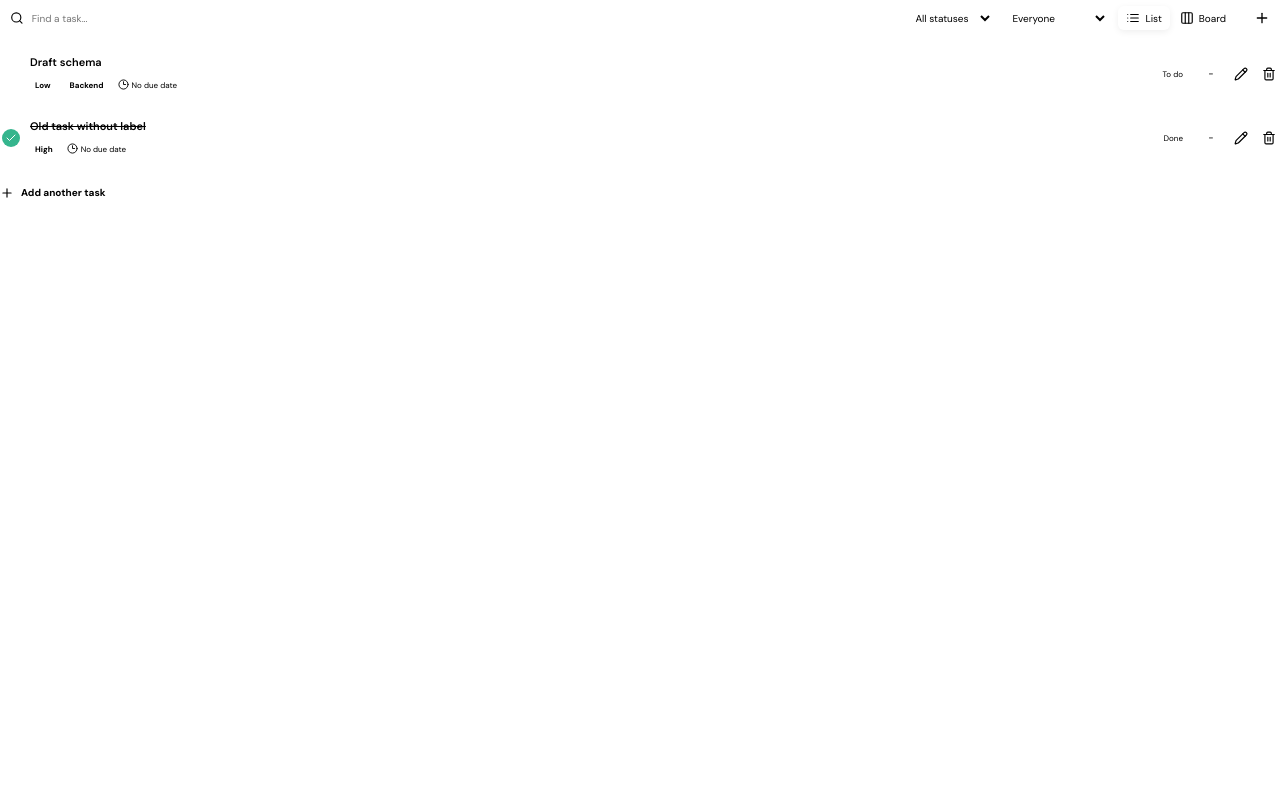
Test: Task label (US-21) › only sends the label (plus version) when just the label was edited
The width and height of the screenshot is (1280, 800).
Check: the text "Draft schema" is shown, box [30, 55, 102, 69]
Step 1. Click the button named "Edit Draft schema" → (1241,74), box [1232, 65, 1250, 83]
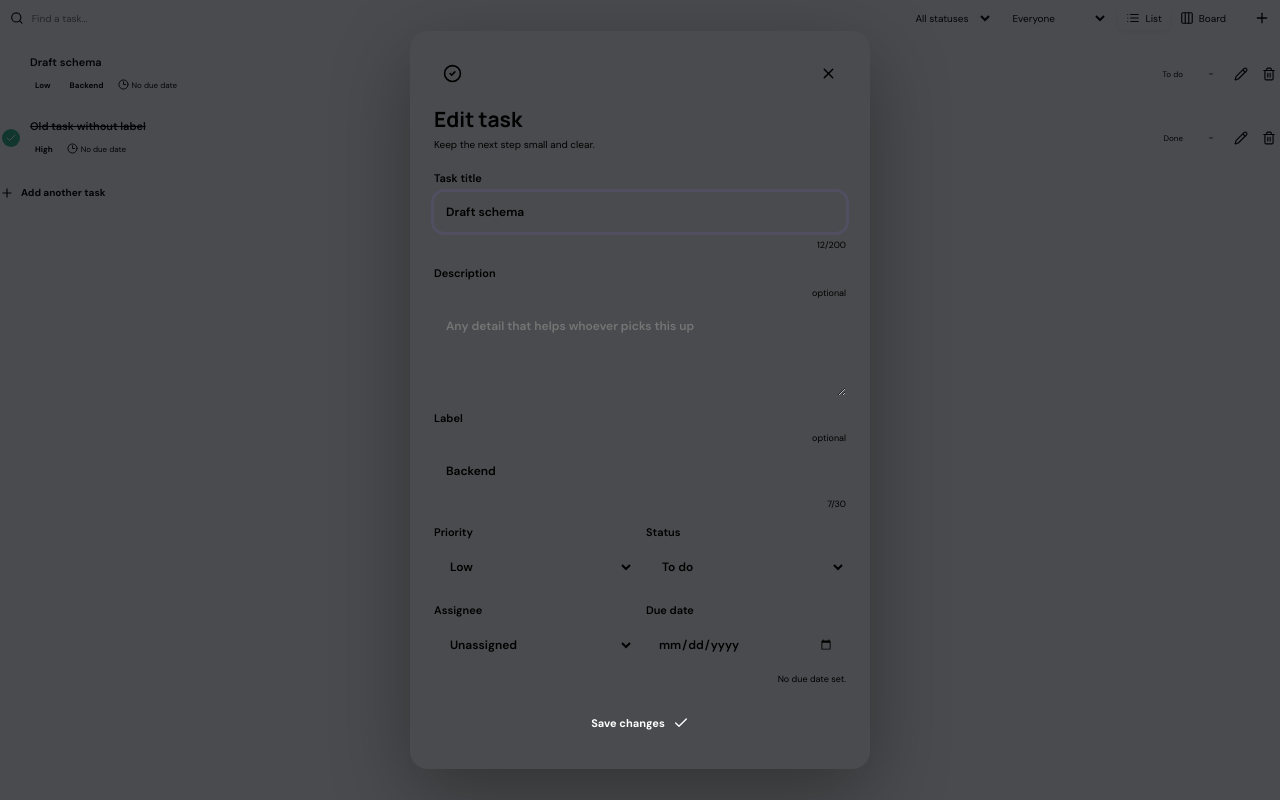
Check: the field with placeholder "e.g. Frontend, Bug, Docs" holds "Backend"
Step 2. Replace the text in the field with placeholder "e.g. Frontend, Bug, Docs" with "API" → (640,471), box [434, 451, 846, 491]
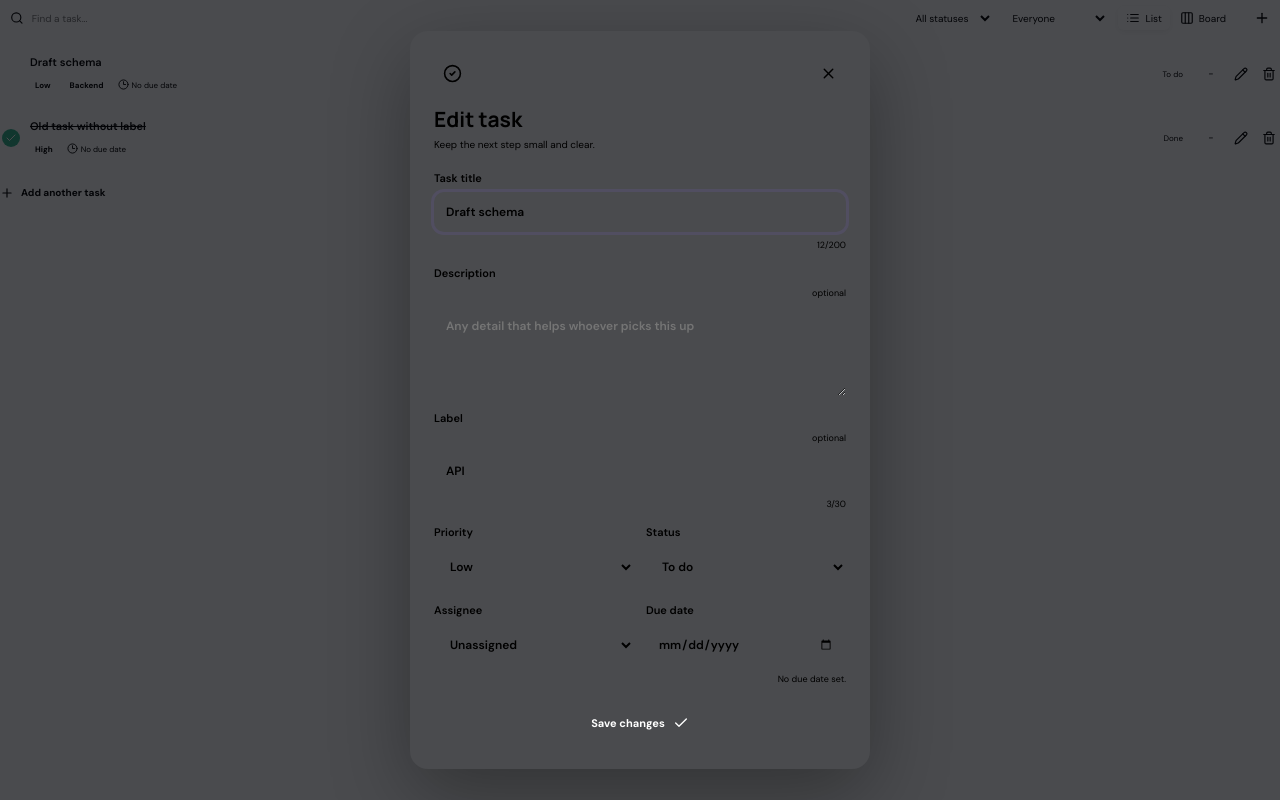
Step 3. Click the button "Save changes" → (640,723), box [434, 701, 846, 745]
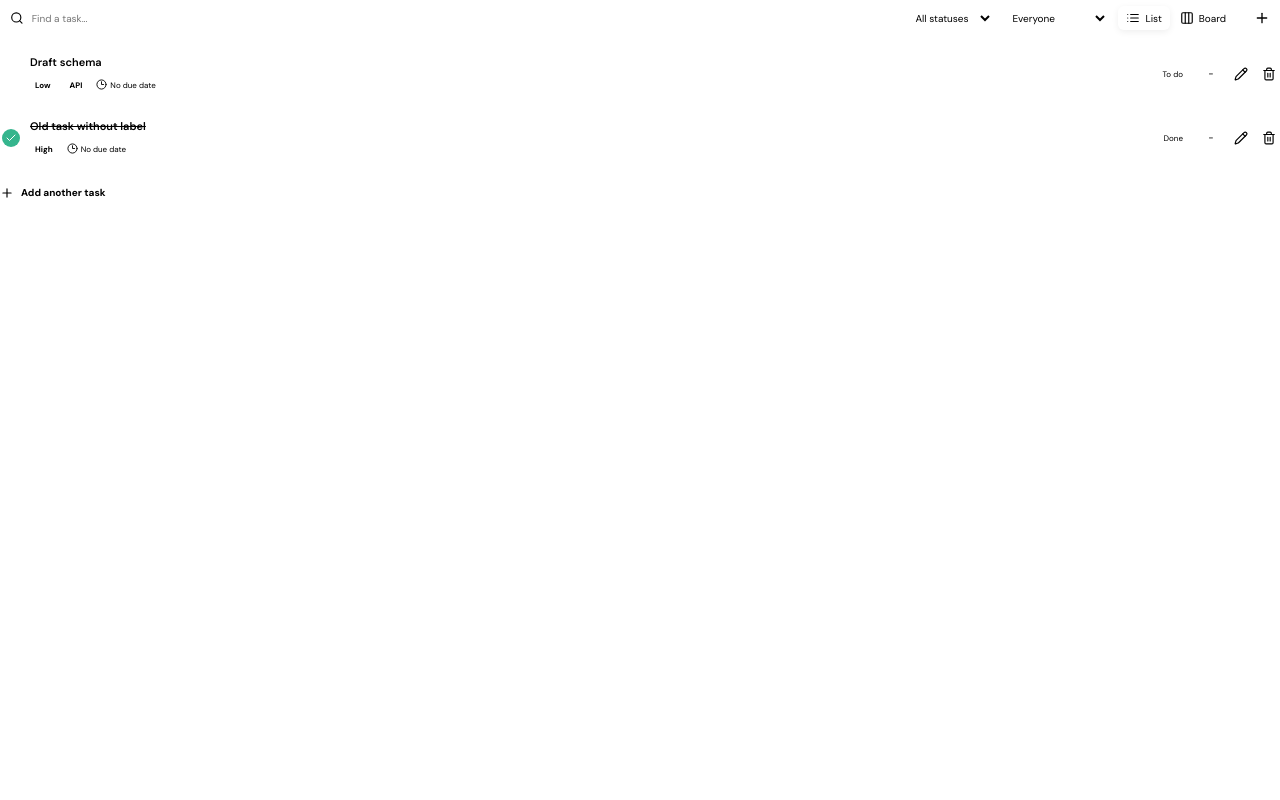
Check: the text "API" is shown, box [70, 80, 82, 90]
